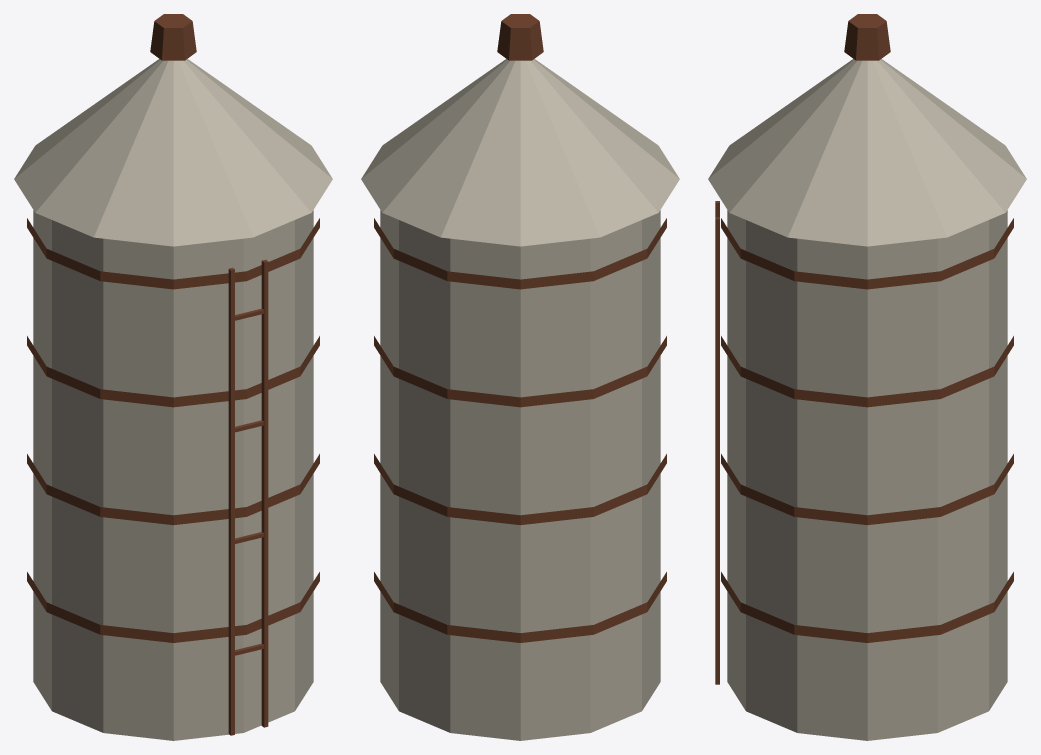
Rendered from silo.glb.
3 views of the same model, side by side, from view 1: azimuth 30°, elevation 25°; view 2: azimuth 150°, elevation 25°; view 3: azimuth 270°, elevation 25° (orthographic).
Parts seen in each view (by area): view 1: SiloShell, SiloTrim; view 2: SiloShell, SiloTrim; view 3: SiloShell, SiloTrim.
Boxes of the visible parts, <box> form: SiloShell: <box>14,59,332,740</box>; SiloTrim: <box>27,14,319,735</box>; SiloShell: <box>361,59,679,740</box>; SiloTrim: <box>374,14,666,642</box>; SiloShell: <box>708,59,1026,740</box>; SiloTrim: <box>715,14,1013,684</box>.
Bounding box in the file's own units: 4.66 × 10.65 × 4.66.
